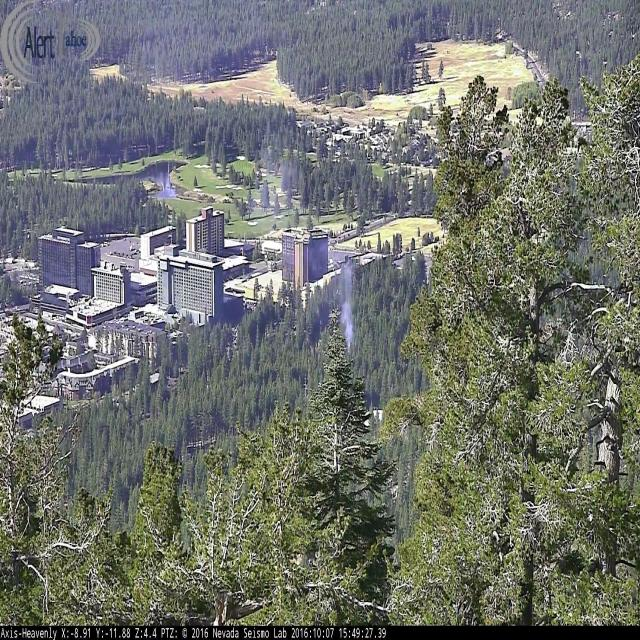smoke: (258, 134, 352, 356)
